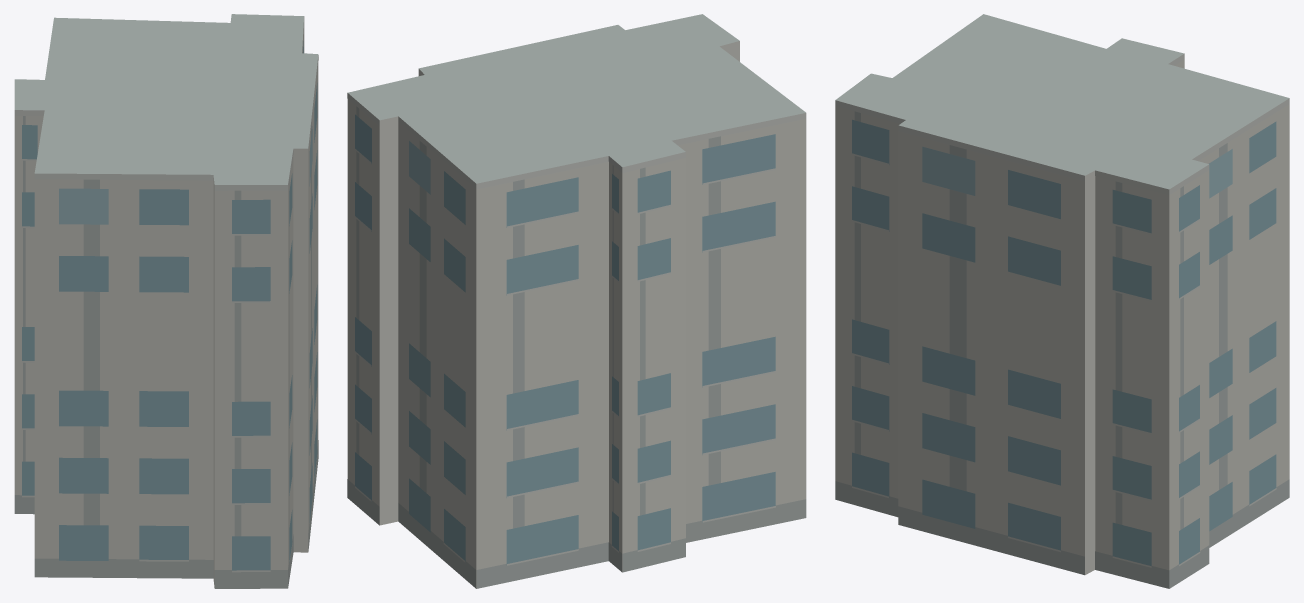
Rendered from survey-upis-32732712.glb.
The picture shows the model from 3 angles, left to right: view 1: azimuth 30°, elevation 25°; view 2: azimuth 150°, elevation 25°; view 3: azimuth 270°, elevation 25°; orthographic projection.
Parts seen in each view (by area): view 1: survey-upis-32732712.tmp; view 2: survey-upis-32732712.tmp; view 3: survey-upis-32732712.tmp.
Boxes of the visible parts, x1,y1,x2,y2 form: survey-upis-32732712.tmp: [14, 14, 318, 588]; survey-upis-32732712.tmp: [347, 14, 806, 588]; survey-upis-32732712.tmp: [835, 14, 1289, 588].
Size of the model in its own units: 16.02 by 17 by 17.54.
